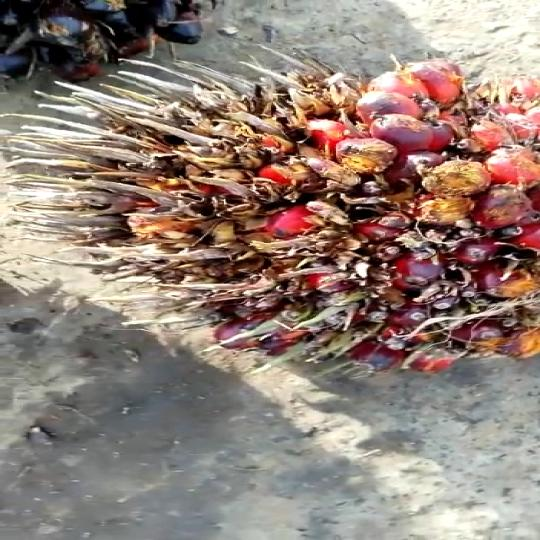terlalu masak: (13, 44, 540, 388)
